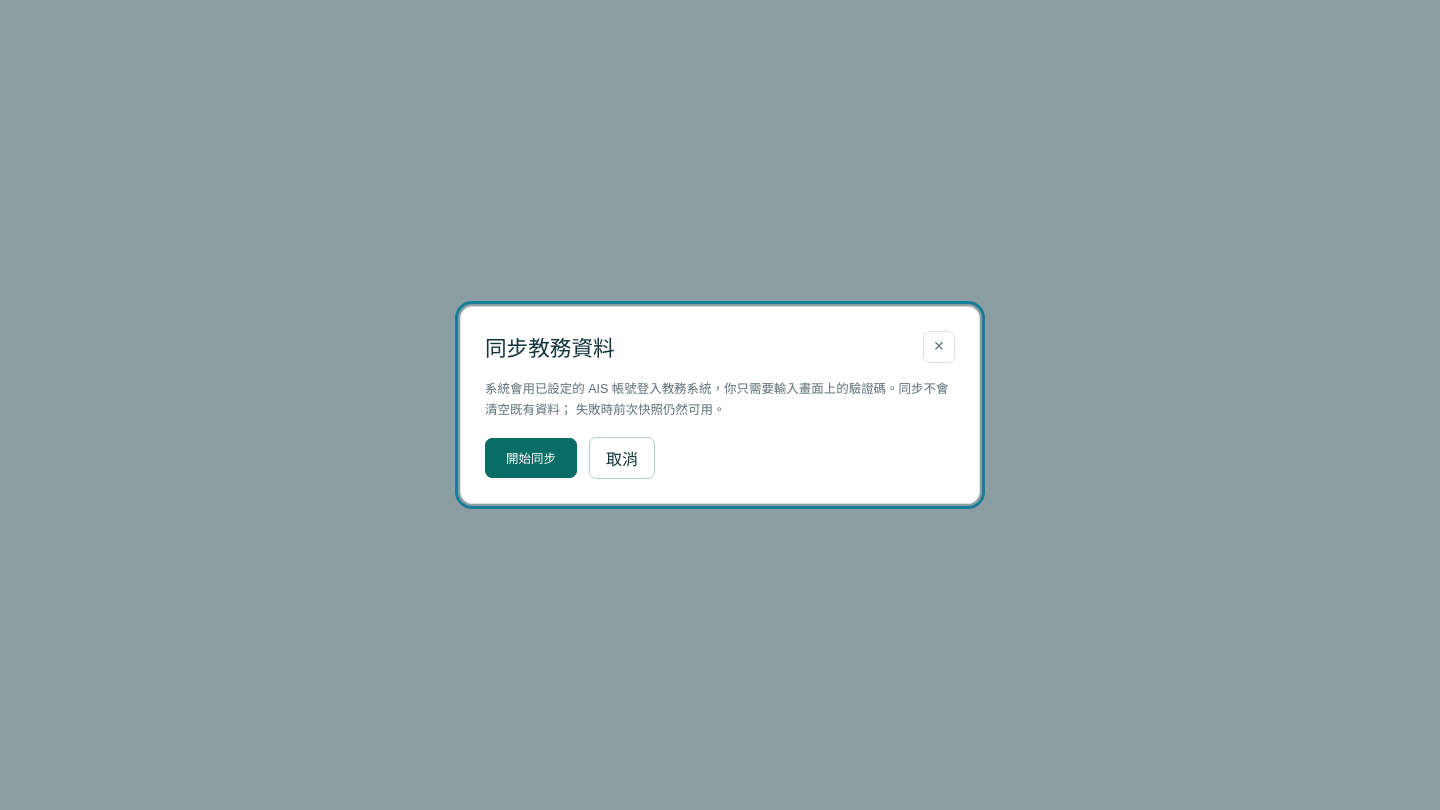
it: SyncDialog（AIS 同步） › captcha 階段按 Esc 關閉時呼叫 DELETE 取消同步
Later steps or results of the test are not shown.
Click the button "開始同步".
click(531, 458)  # box top-left (485, 438), bottom-right (577, 478)
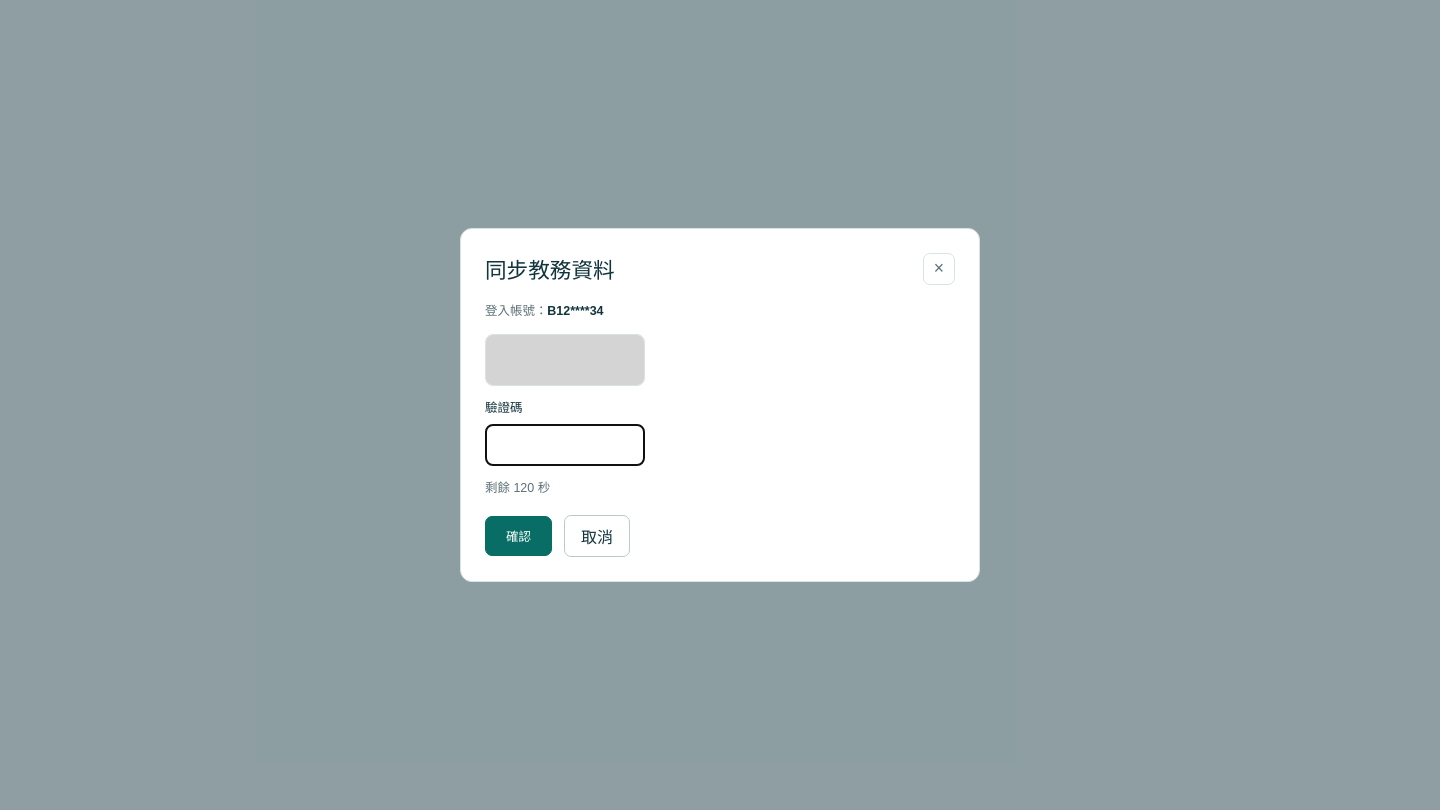
Expected: the field labelled "驗證碼" is shown, top-left (485, 424), bottom-right (645, 466)
